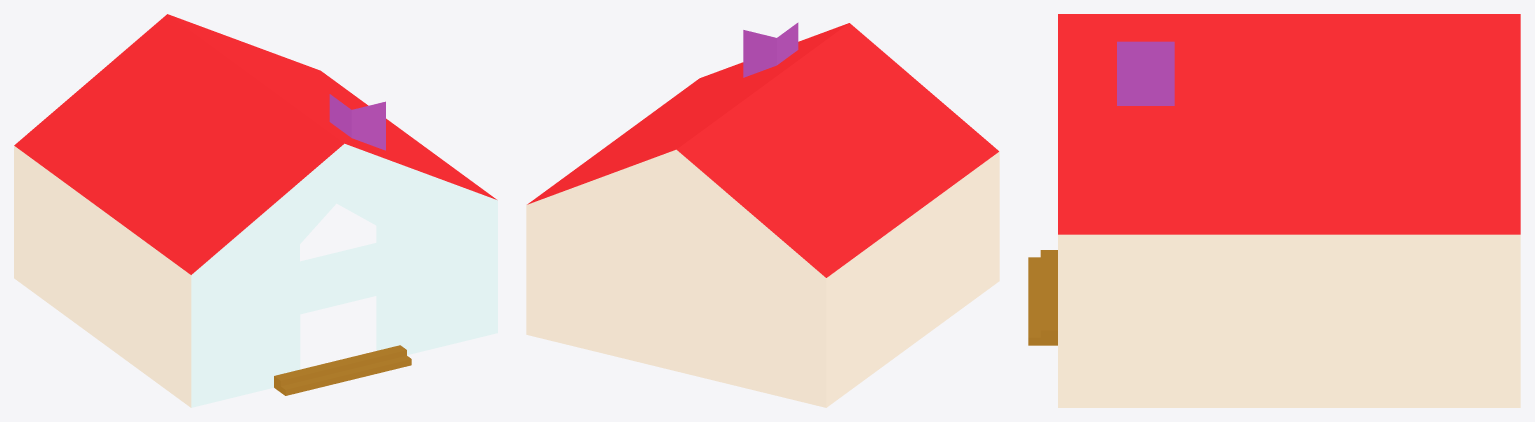
The model's file is house_2.glb.
3 renders of one model, left to right at view 1: azimuth 30°, elevation 25°; view 2: azimuth 150°, elevation 25°; view 3: azimuth 270°, elevation 25°, orthographic. The views are drawn at different scales.
Visible parts, largest first — view 1: Material2.001, Material2.005, Material2, Material2.004, Material2.002; view 2: Material2, Material2.001, Material2.002; view 3: Material2.001, Material2, Material2.002, Material2.004.
Boxes of the visible parts, bbox=[...] form: Material2.001: bbox=[14, 14, 496, 274]; Material2.005: bbox=[191, 143, 497, 407]; Material2: bbox=[14, 146, 191, 407]; Material2.004: bbox=[274, 345, 411, 395]; Material2.002: bbox=[329, 94, 385, 150]; Material2: bbox=[526, 149, 999, 407]; Material2.001: bbox=[527, 23, 998, 277]; Material2.002: bbox=[743, 22, 798, 77]; Material2.001: bbox=[1058, 14, 1520, 234]; Material2: bbox=[1058, 234, 1520, 407]; Material2.002: bbox=[1117, 41, 1174, 105]; Material2.004: bbox=[1028, 250, 1057, 345].
Size of the model in its own units: 65.77 by 48.53 by 70.01.
